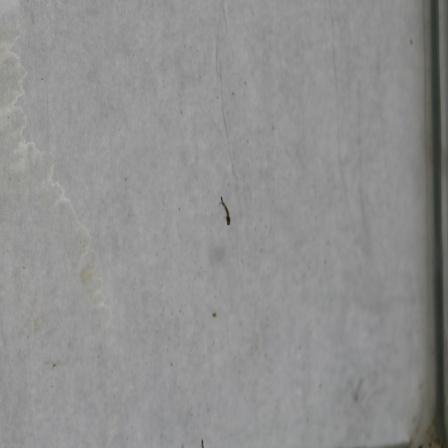Jentik-Nyamuk: (213, 191, 236, 231)
